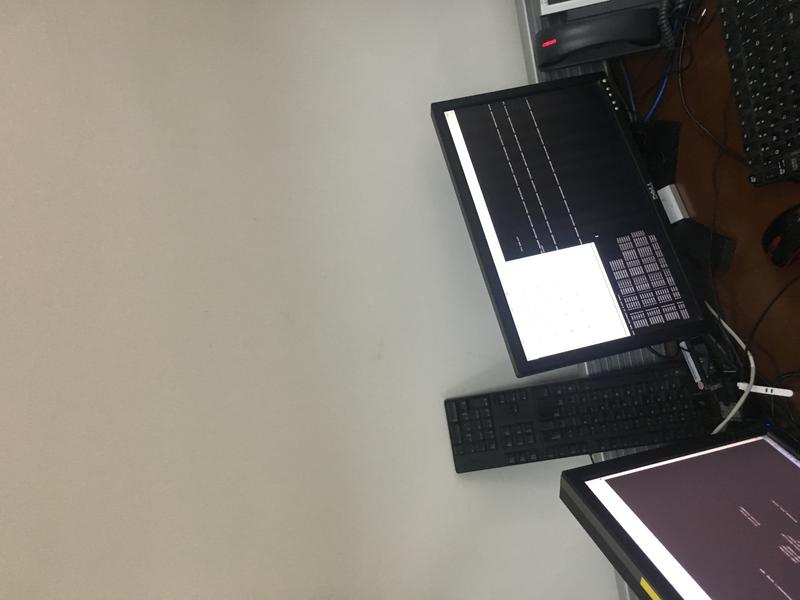xrandr_pass: (478, 236, 635, 363)
